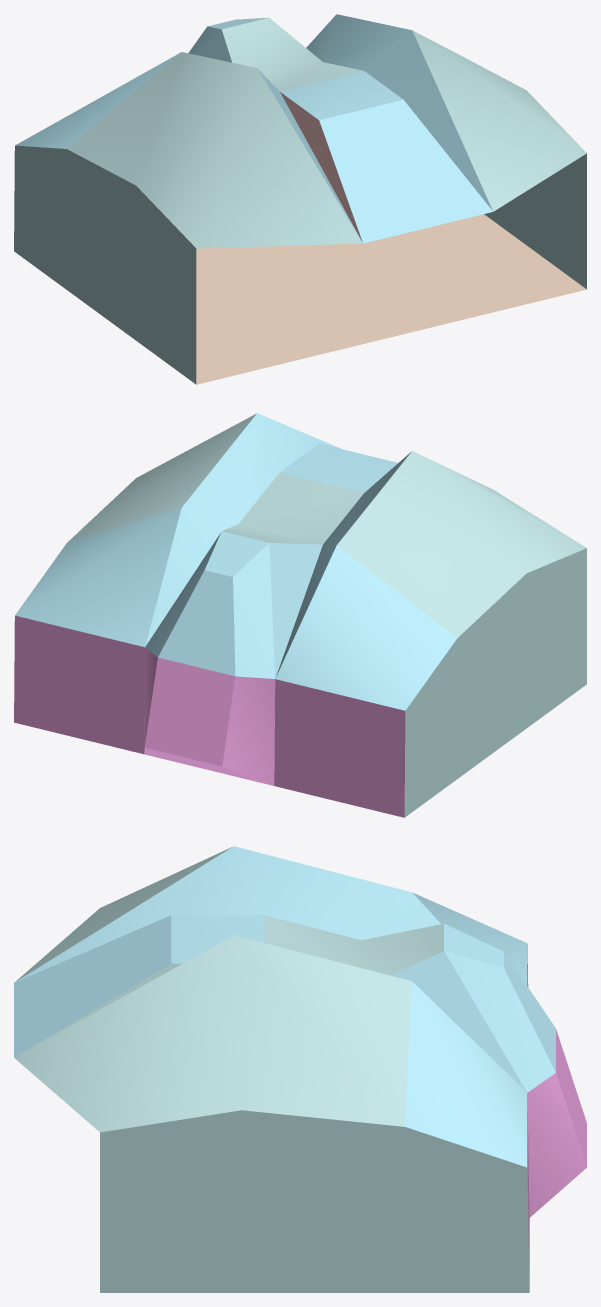
3 renders of one model, top to bottom at view 1: azimuth 30°, elevation 25°; view 2: azimuth 150°, elevation 25°; view 3: azimuth 270°, elevation 25°, orthographic. The views are drawn at different scales.
Parts seen in each view (by area): view 1: Object64; view 2: Object64; view 3: Object64.
Boxes of the visible parts, x1,y1,x2,y2 form: Object64: (14, 14, 586, 384); Object64: (14, 413, 586, 817); Object64: (14, 846, 586, 1292).
Bounding box in the file's own units: 30000 × 18083 × 32377.
